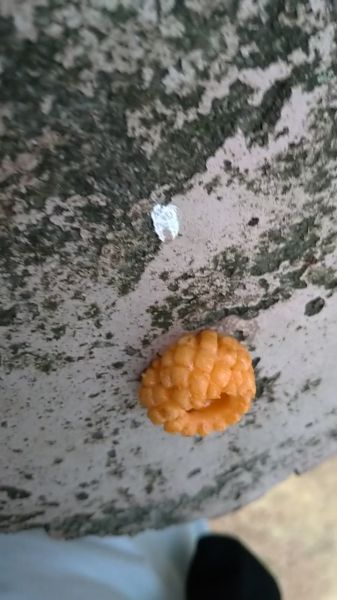eggs: (131, 322, 267, 446)
